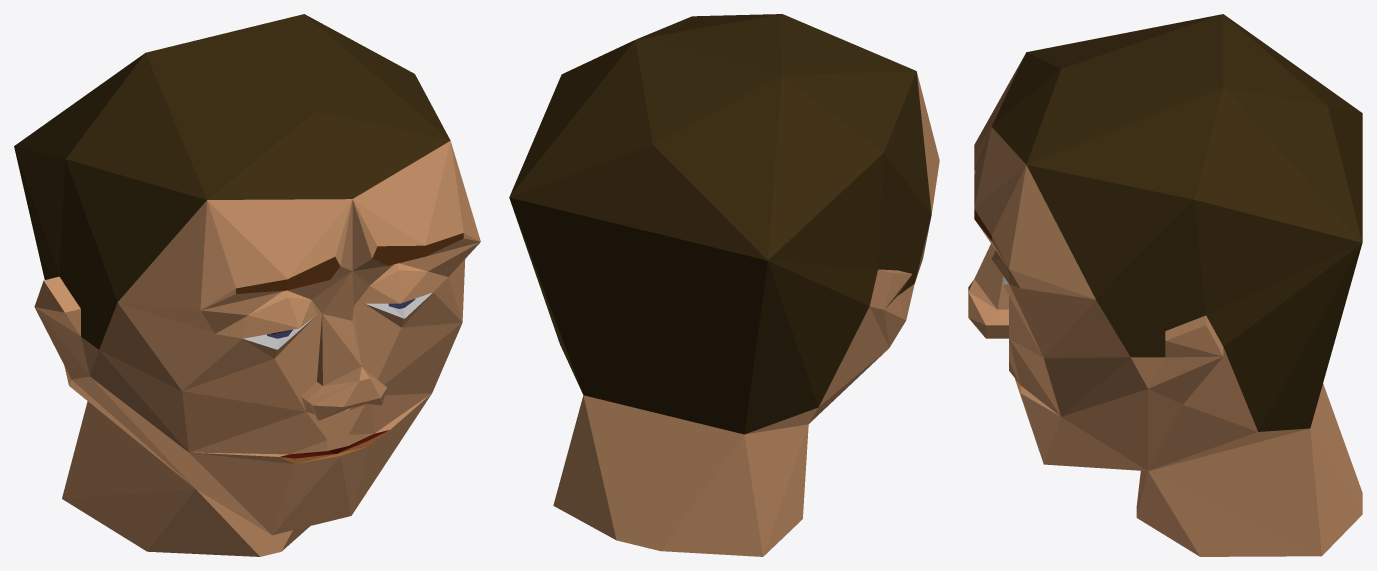
The model's file is model_139_npc_head.obj.
3 renders of one model, left to right at view 1: azimuth 30°, elevation 25°; view 2: azimuth 150°, elevation 25°; view 3: azimuth 270°, elevation 25°, orthographic. The views are drawn at different scales.
Parts seen in each view (by area): view 1: 139; view 2: 139; view 3: 139.
Part boxes in pixels (x1,y1,x2,y2): 139: (14,14,480,556); 139: (509,14,939,556); 139: (968,14,1362,556).
Size of the model in its own units: 73 by 88 by 68.
